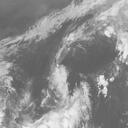cyclone: (49, 41, 83, 92)
